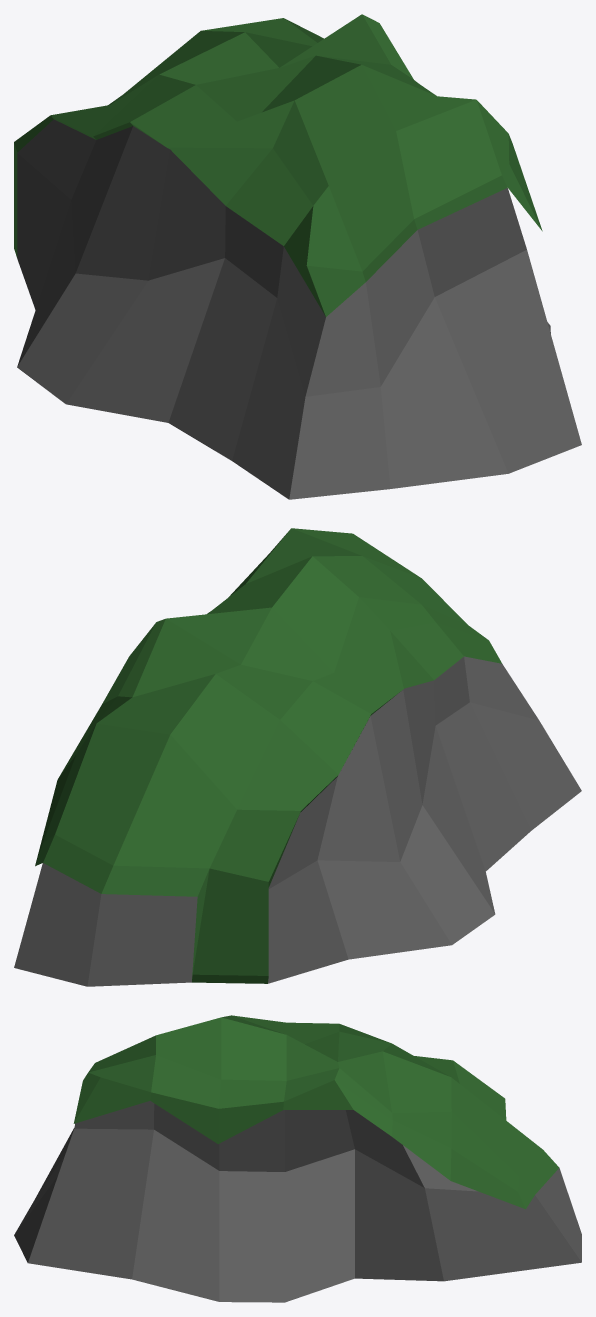
The model's file is LargeRock01grass.fbx.
The picture shows the model from 3 angles, top to bottom: view 1: azimuth 30°, elevation 25°; view 2: azimuth 150°, elevation 25°; view 3: azimuth 270°, elevation 25°; orthographic projection. The views are drawn at different scales.
Parts seen in each view (by area): view 1: Cube.001; view 2: Cube.001; view 3: Cube.001.
Part boxes in pixels (<box>): Cube.001: <box>14,14,581,499</box>; Cube.001: <box>14,528,581,986</box>; Cube.001: <box>14,1015,581,1302</box>.
Bounding box in the file's own units: 378 × 256 × 593.
